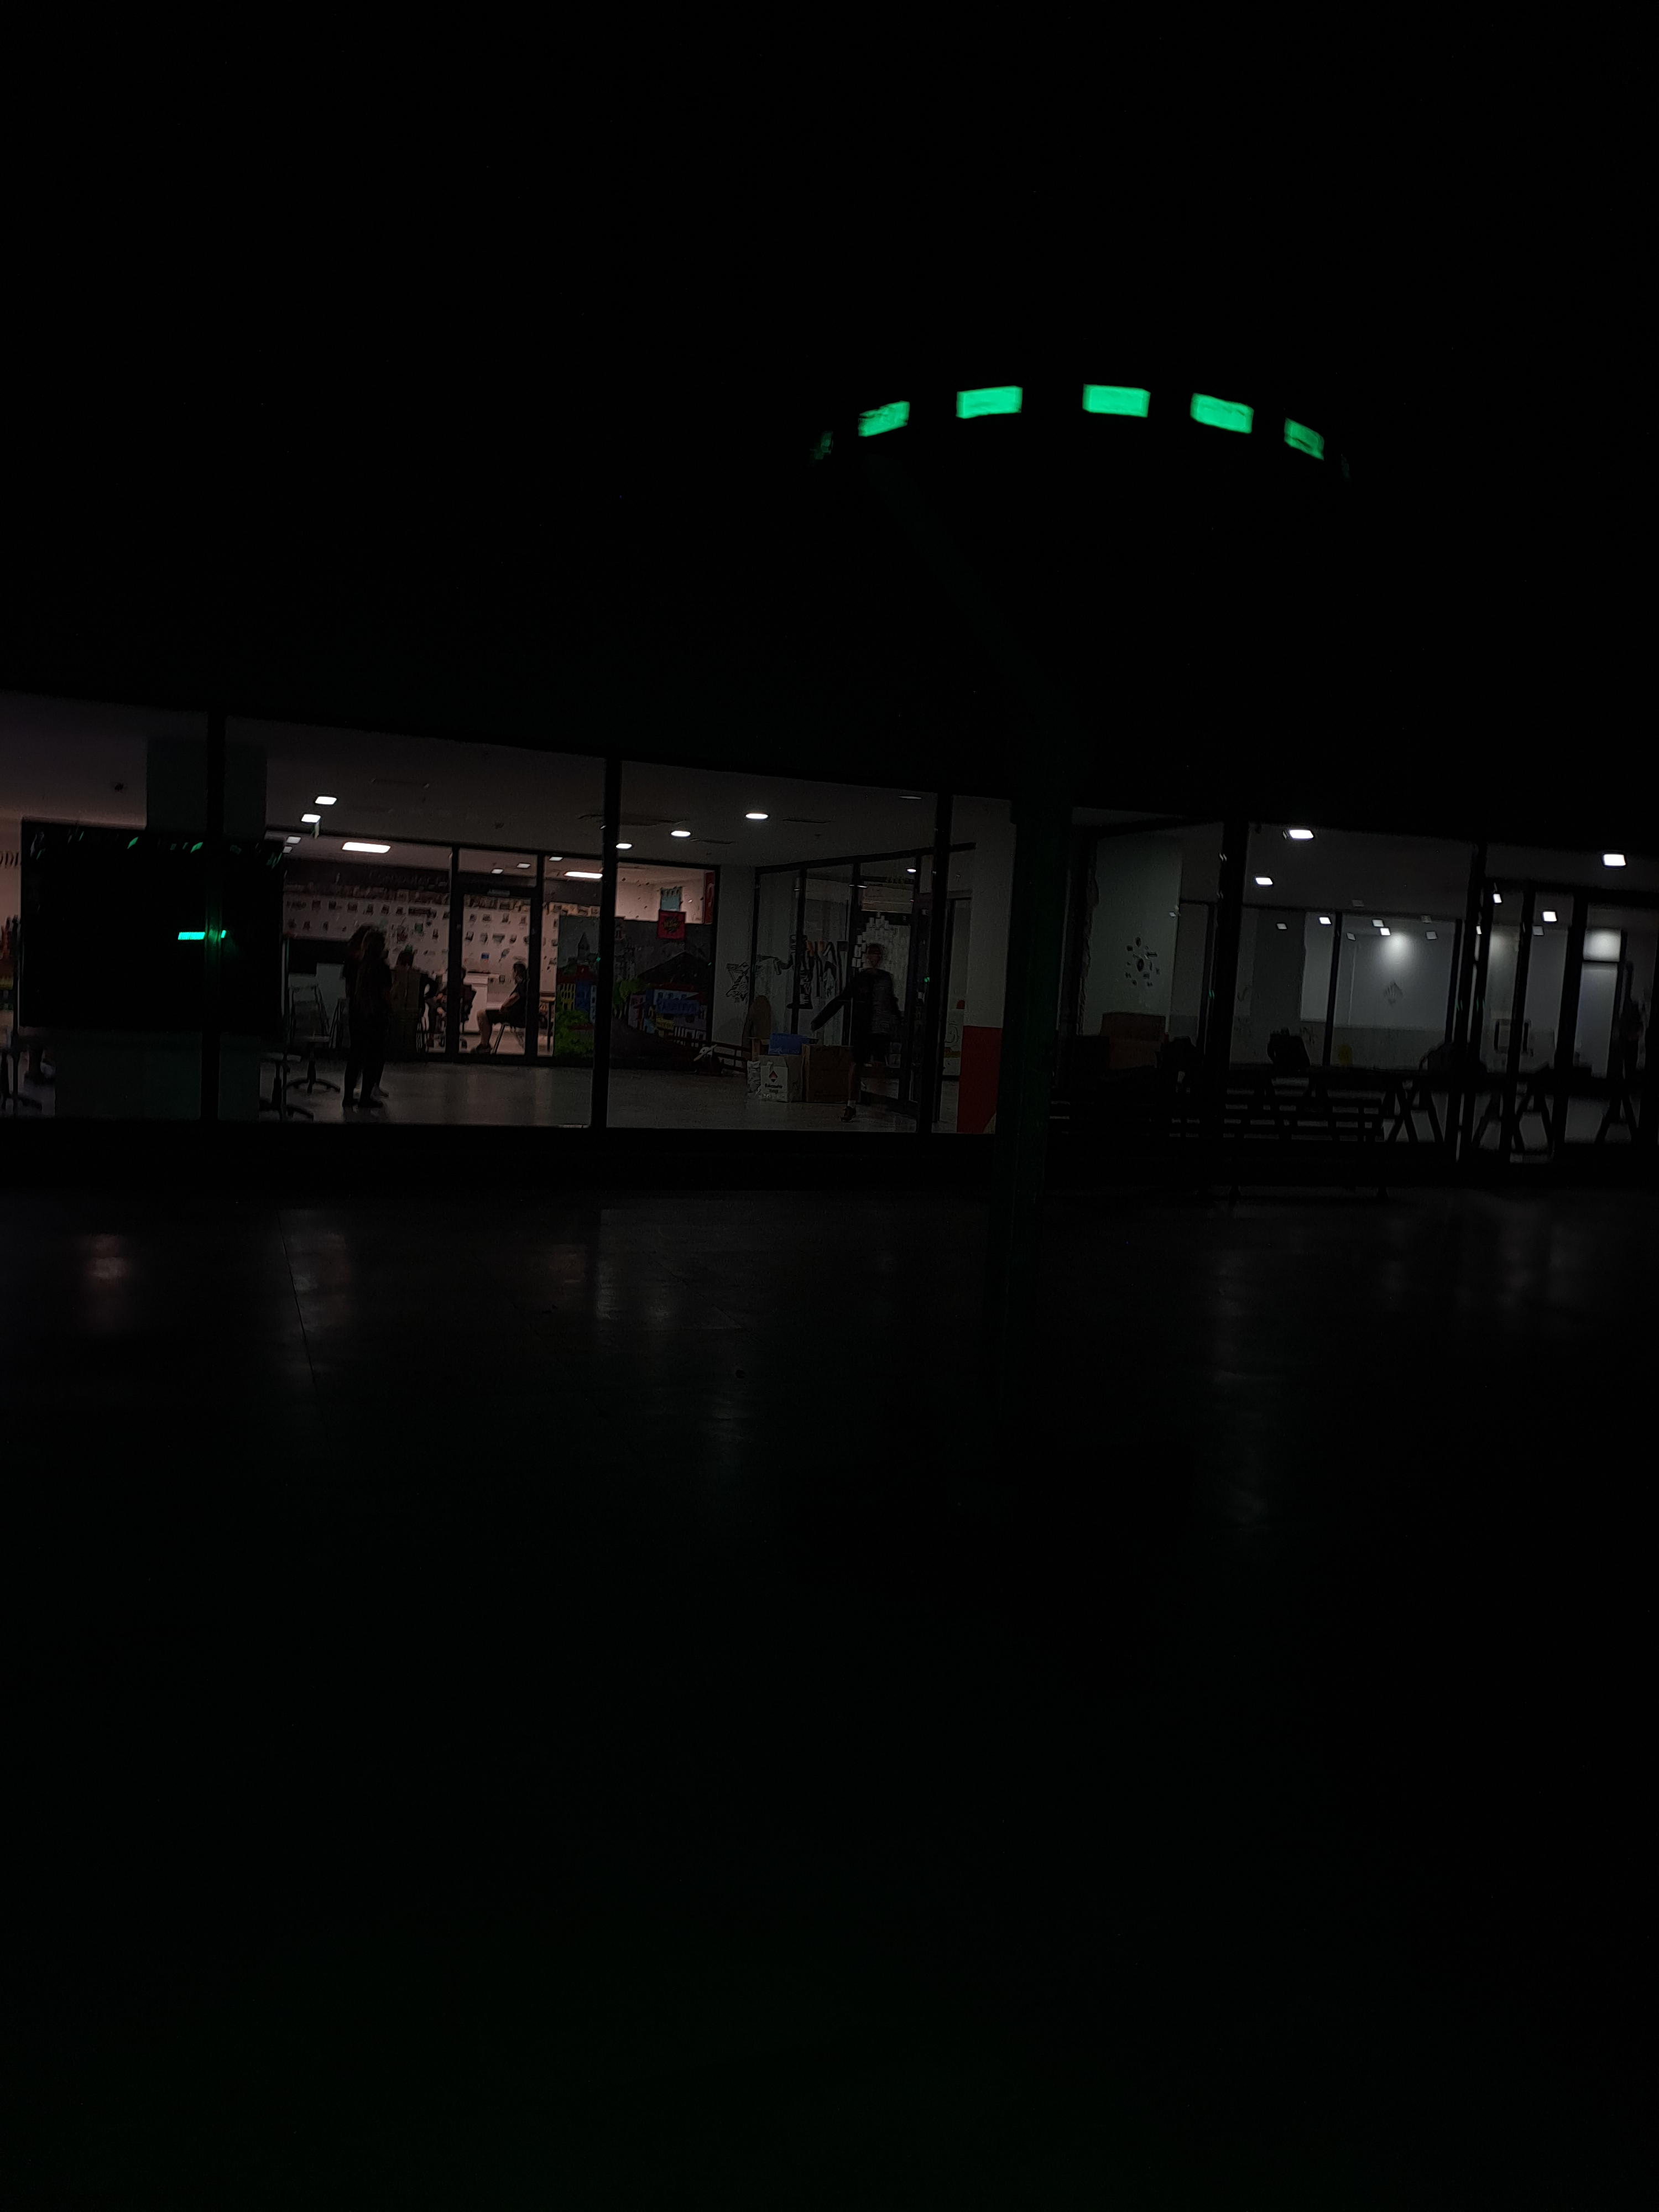hoop: (856, 371, 1328, 477)
